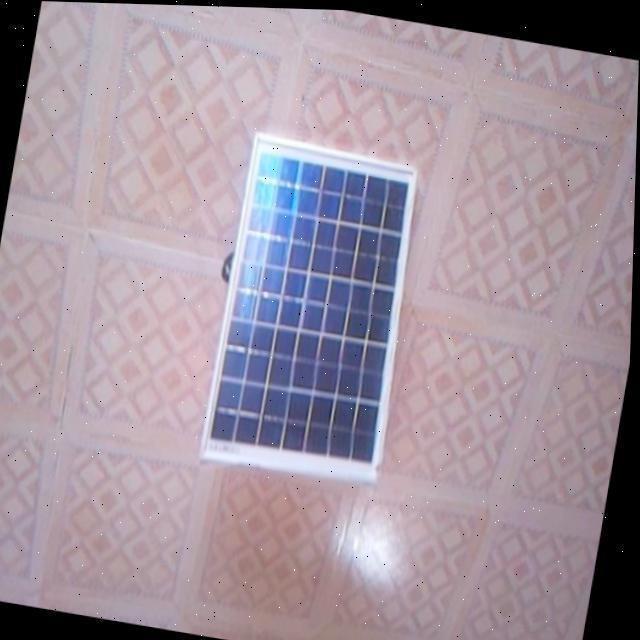Normal Solar Panel: (202, 128, 432, 488)
